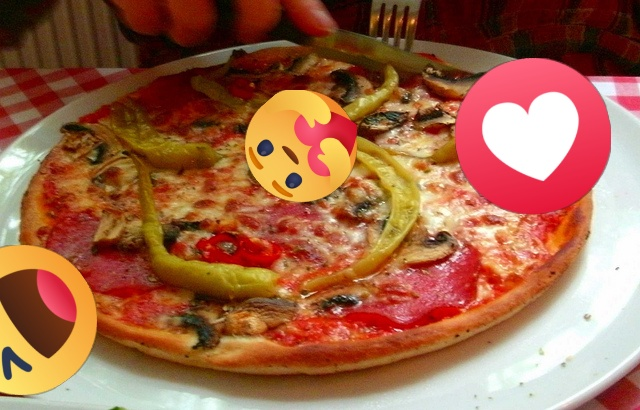care: (245, 90, 357, 202)
haha: (0, 245, 97, 395)
love: (455, 58, 611, 214)
